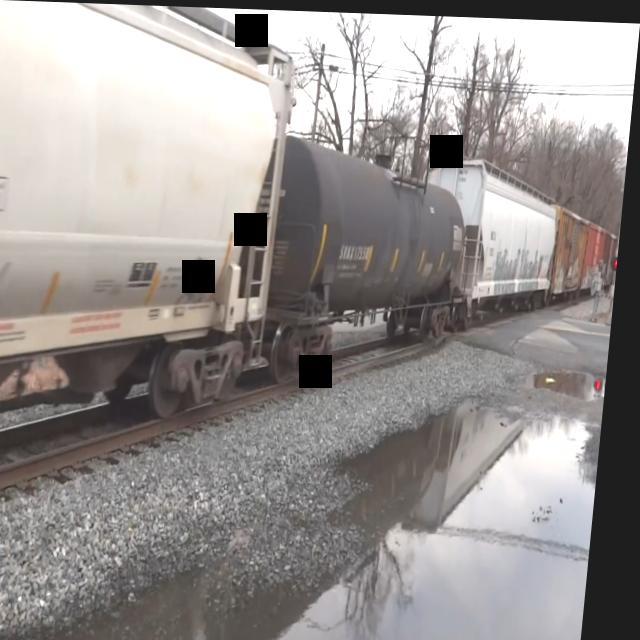hopper: (0, 0, 305, 463), (420, 144, 568, 316)
tank: (271, 119, 485, 389)
